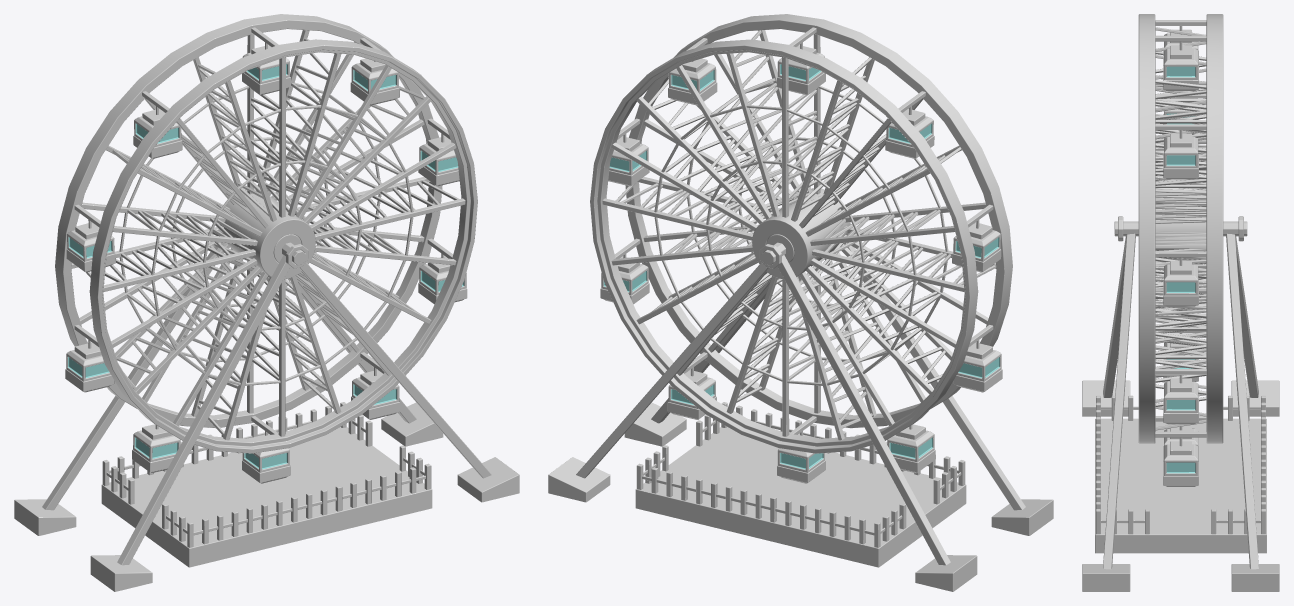
File: ferrisWheel.glb
The picture shows the model from 3 angles, left to right: view 1: azimuth 30°, elevation 25°; view 2: azimuth 150°, elevation 25°; view 3: azimuth 270°, elevation 25°; orthographic projection. The views are drawn at different scales.
Visible parts, largest first — view 1: ferrisWheelRotate, ferrisWheelBody, ferrisWheelCube8, ferrisWheelCube7, ferrisWheelCube2, ferrisWheelCube9, ferrisWheelCube6, ferrisWheelCube3, ferrisWheelCube10, ferrisWheelCube1, ferrisWheelCube5, ferrisWheelCube4; view 2: ferrisWheelRotate, ferrisWheelBody, ferrisWheelCube8, ferrisWheelCube7, ferrisWheelCube2, ferrisWheelCube9, ferrisWheelCube6, ferrisWheelCube3, ferrisWheelCube10, ferrisWheelCube1, ferrisWheelCube5, ferrisWheelCube4; view 3: ferrisWheelBody, ferrisWheelRotate, ferrisWheelCube4, ferrisWheelCube2, ferrisWheelCube3, ferrisWheelCube5, ferrisWheelCube1, ferrisWheelCube6, ferrisWheelCube10.
Part boxes in pixels (<box>): ferrisWheelRotate: <box>55,14,477,453</box>; ferrisWheelBody: <box>14,242,519,591</box>; ferrisWheelCube8: <box>65,340,114,392</box>; ferrisWheelCube7: <box>132,424,180,472</box>; ferrisWheelCube2: <box>350,58,399,105</box>; ferrisWheelCube9: <box>66,220,115,272</box>; ferrisWheelCube6: <box>242,431,290,483</box>; ferrisWheelCube3: <box>418,133,459,186</box>; ferrisWheelCube10: <box>133,106,182,158</box>; ferrisWheelCube1: <box>242,42,290,94</box>; ferrisWheelCube5: <box>351,367,399,419</box>; ferrisWheelCube4: <box>418,253,467,304</box>; ferrisWheelRotate: <box>590,14,1012,453</box>; ferrisWheelBody: <box>548,242,1053,591</box>; ferrisWheelCube8: <box>953,340,1002,392</box>; ferrisWheelCube7: <box>887,424,935,472</box>; ferrisWheelCube2: <box>668,58,717,105</box>; ferrisWheelCube9: <box>952,220,1001,272</box>; ferrisWheelCube6: <box>777,431,825,483</box>; ferrisWheelCube3: <box>608,134,649,186</box>; ferrisWheelCube10: <box>885,106,934,158</box>; ferrisWheelCube1: <box>777,42,825,94</box>; ferrisWheelCube5: <box>667,367,716,419</box>; ferrisWheelCube4: <box>600,254,649,304</box>; ferrisWheelBody: <box>1082,216,1279,591</box>; ferrisWheelRotate: <box>1138,14,1223,443</box>; ferrisWheelCube4: <box>1163,375,1198,424</box>; ferrisWheelCube2: <box>1163,130,1198,179</box>; ferrisWheelCube3: <box>1163,257,1198,306</box>; ferrisWheelCube5: <box>1163,437,1198,486</box>; ferrisWheelCube1: <box>1163,41,1198,90</box>; ferrisWheelCube6: <box>1163,425,1198,461</box>; ferrisWheelCube10: <box>1163,26,1198,65</box>.
Size of the model in its own units: 42.59 by 47.32 by 18.35.
